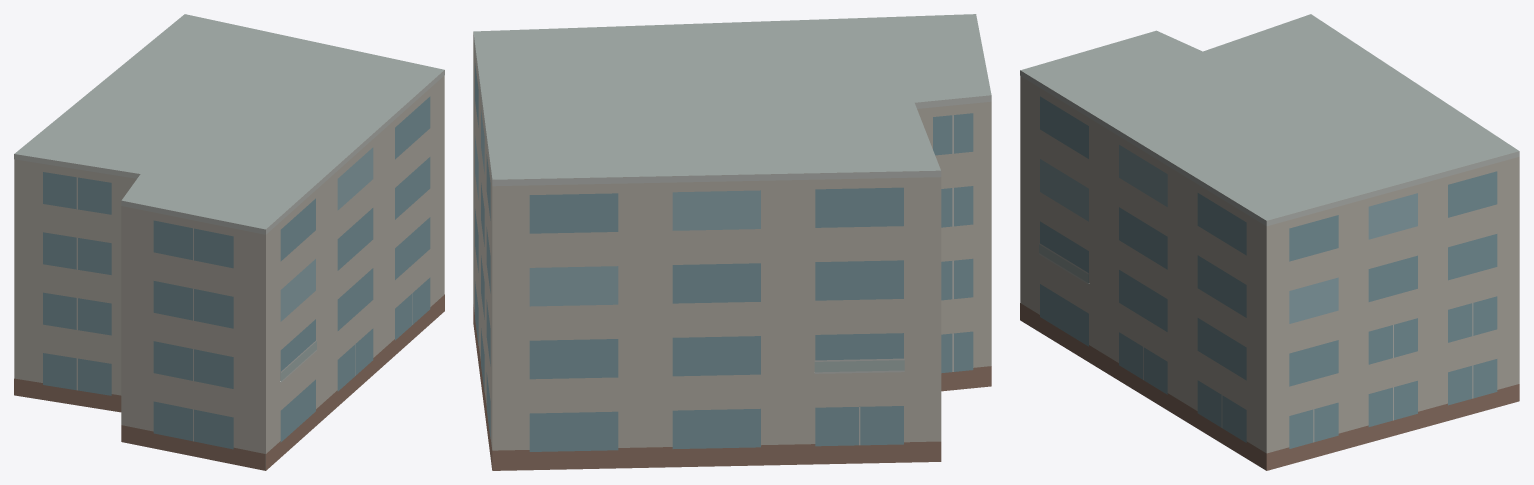
The model's file is survey-upis-32501192.glb.
The picture shows the model from 3 angles, left to right: view 1: azimuth 30°, elevation 25°; view 2: azimuth 150°, elevation 25°; view 3: azimuth 270°, elevation 25°; orthographic projection. The views are drawn at different scales.
Parts seen in each view (by area): view 1: survey-upis-32501192.tmp; view 2: survey-upis-32501192.tmp; view 3: survey-upis-32501192.tmp.
Boxes of the visible parts, x1,y1,x2,y2 form: survey-upis-32501192.tmp: [14, 14, 444, 470]; survey-upis-32501192.tmp: [473, 14, 991, 470]; survey-upis-32501192.tmp: [1020, 14, 1519, 470].
Size of the model in its own units: 19.53 by 11 by 19.92.
